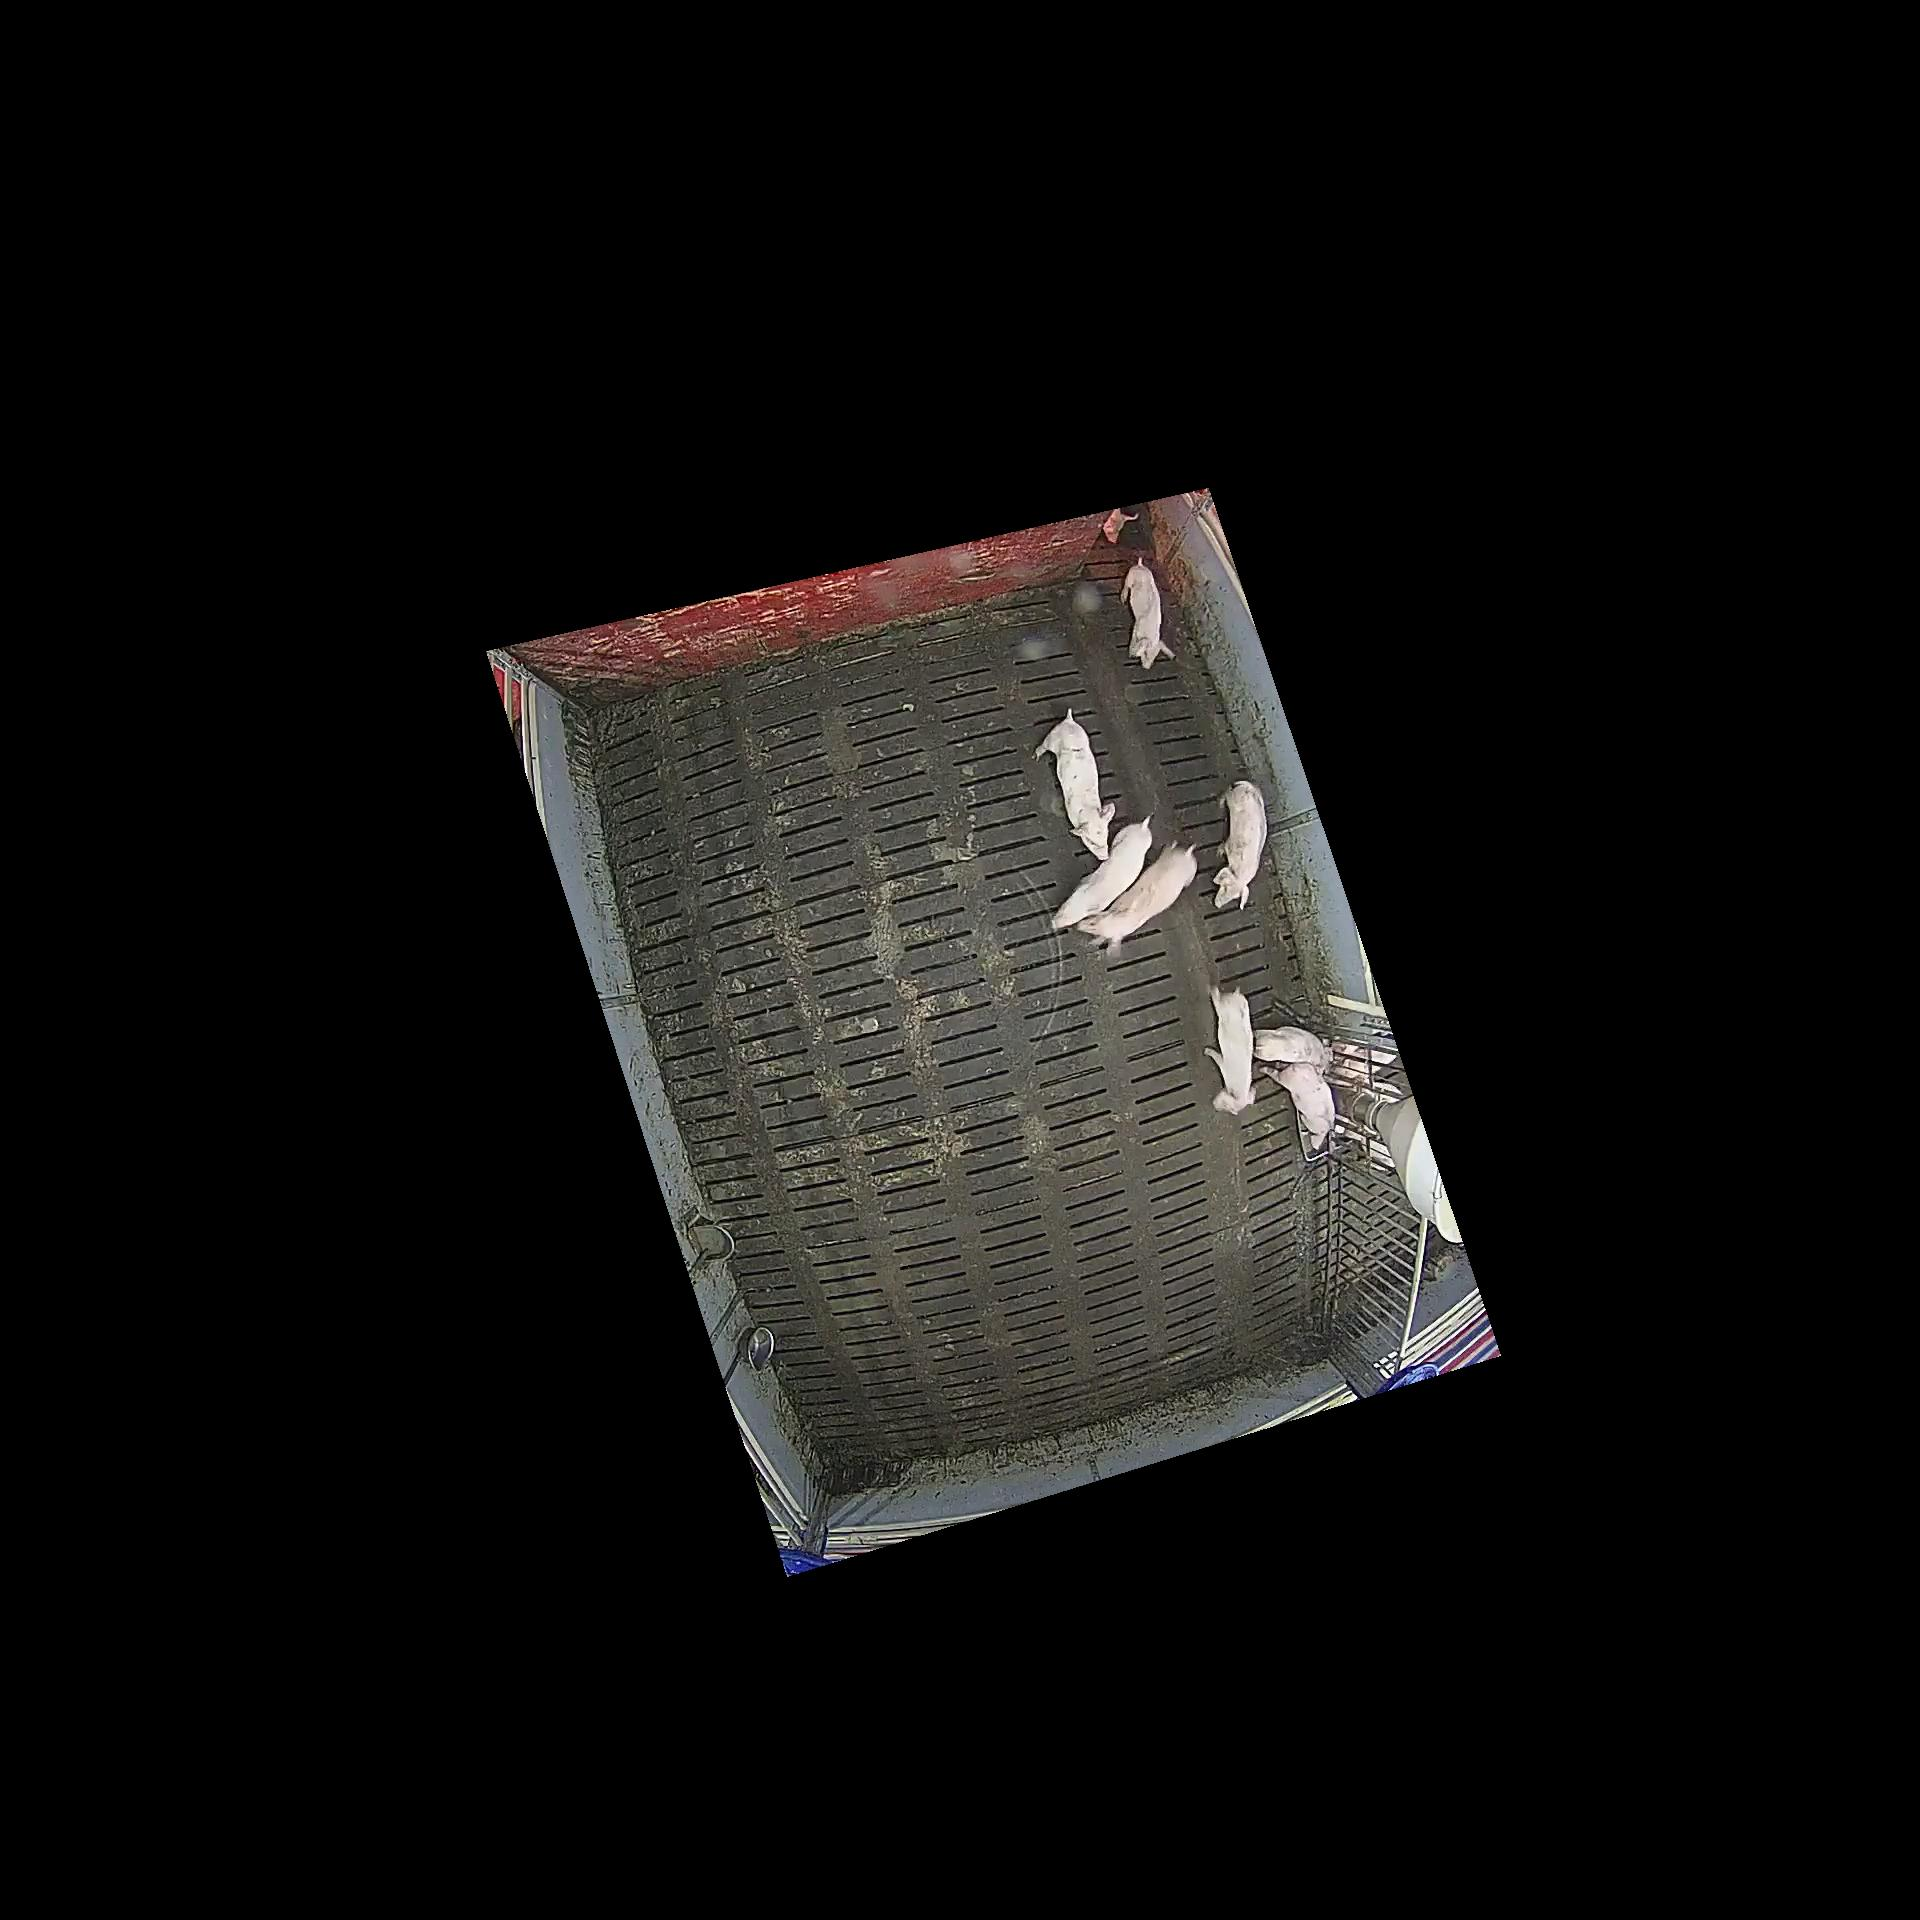pig: (1076, 844, 1201, 949), (1046, 814, 1155, 930), (1036, 712, 1115, 862), (1259, 1062, 1335, 1153), (1213, 781, 1266, 911), (1204, 985, 1255, 1118), (1120, 559, 1173, 668), (1255, 1029, 1331, 1073)
